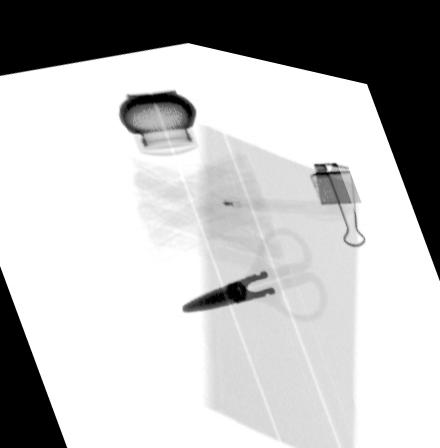Scissors: (180, 214, 329, 309)
